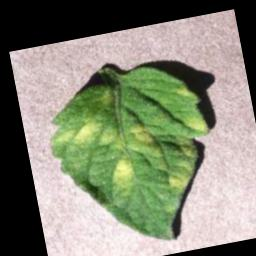Leaf_Mold: (49, 116, 126, 163), (162, 136, 205, 194), (107, 154, 138, 193), (123, 119, 157, 153), (183, 114, 210, 137), (175, 78, 199, 103)
